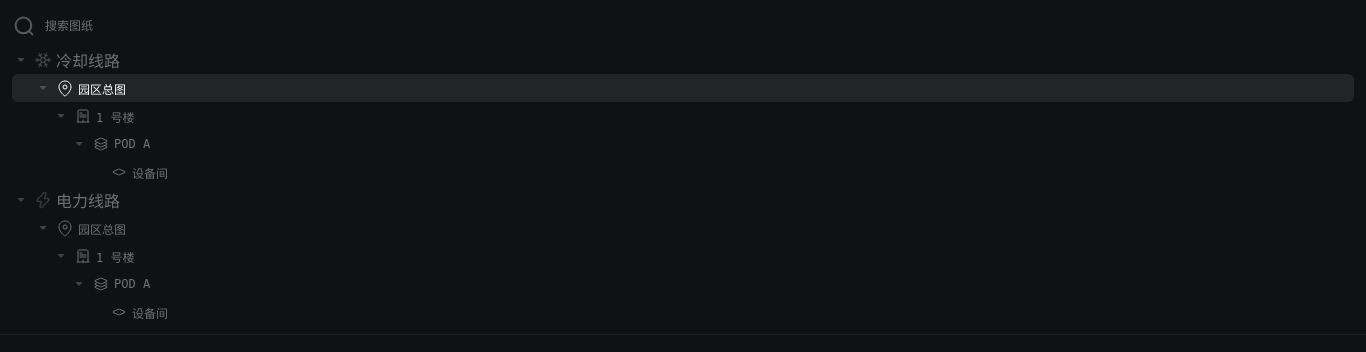
Scenario: HierarchyPanel › collapses and expands an entire line system without selecting a diagram
Click the button with aria-label "收起冷却线路" at x=88, y=62, box [12,46,1354,74]
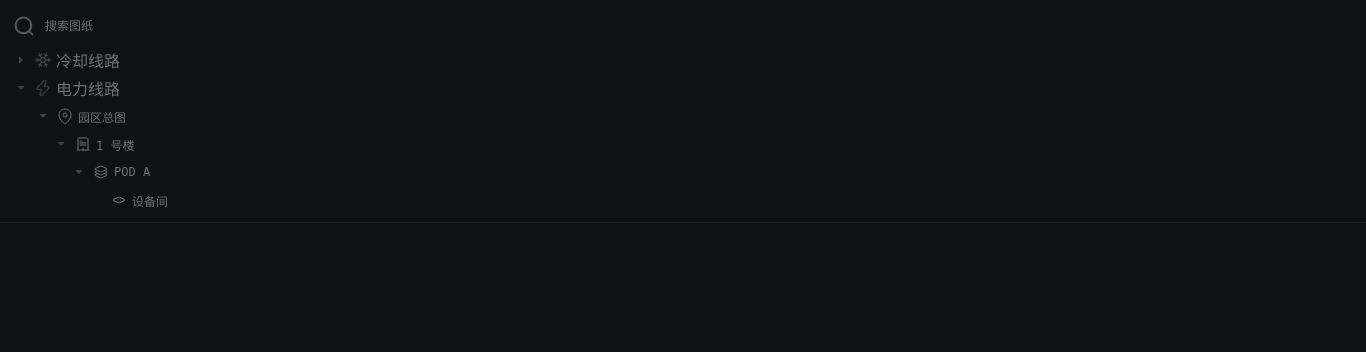
Click the button with aria-label "展开冷却线路" at x=88, y=62, box [12,46,1354,74]
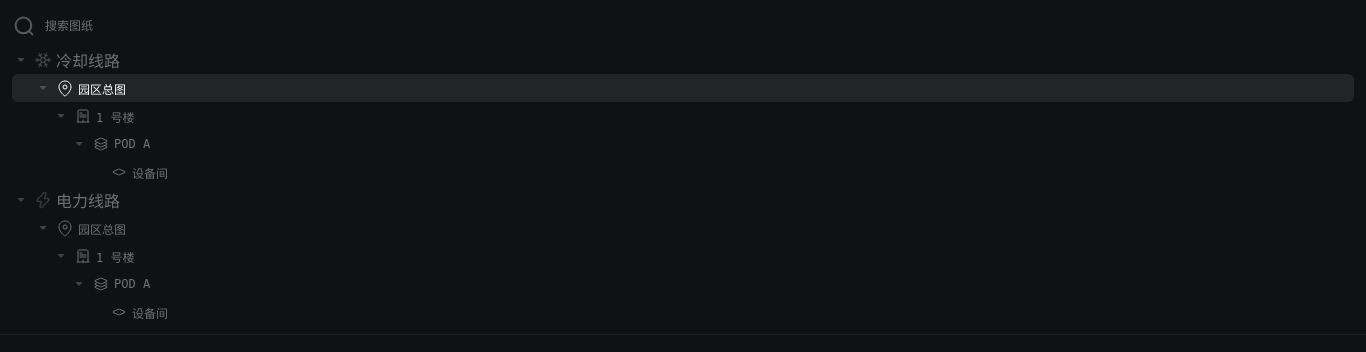
Check: the 1st text "园区总图" is shown, box [78,82,126,96]
